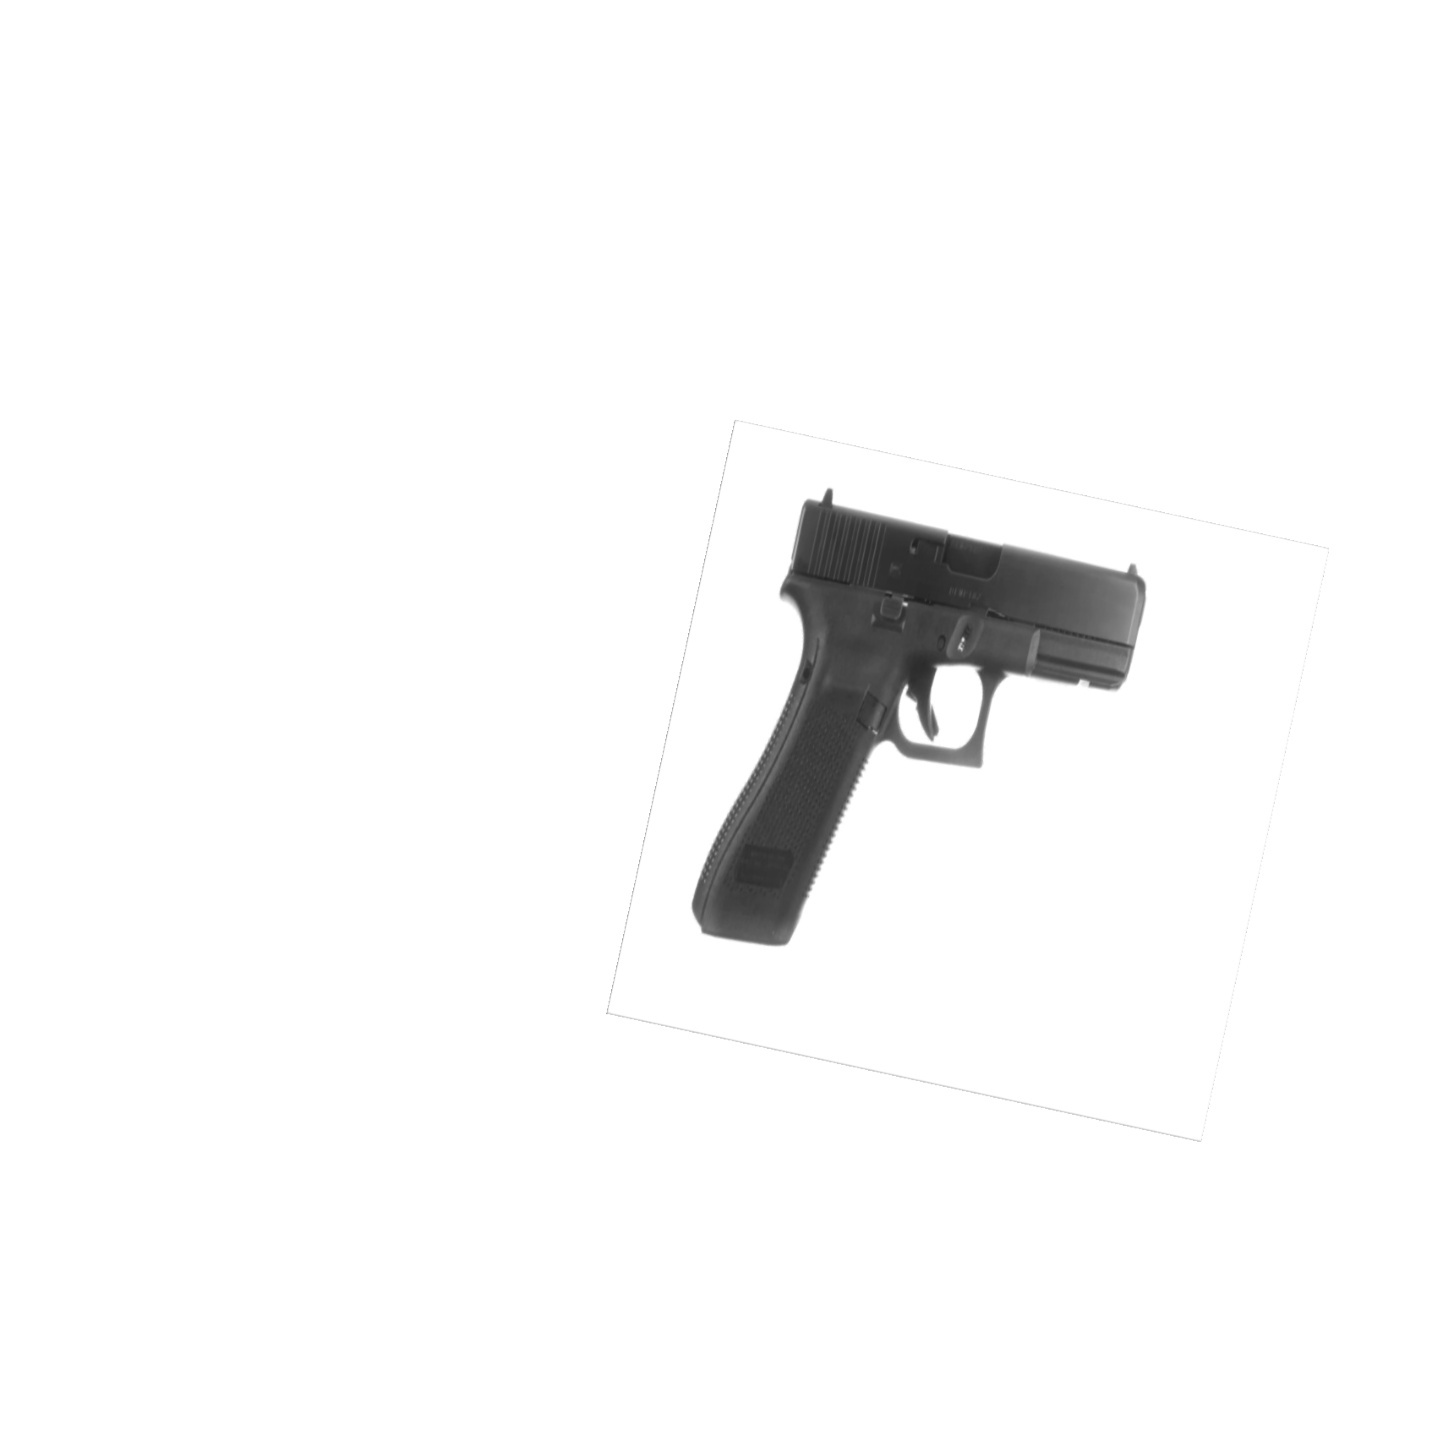gun: (686, 486, 1150, 951)
